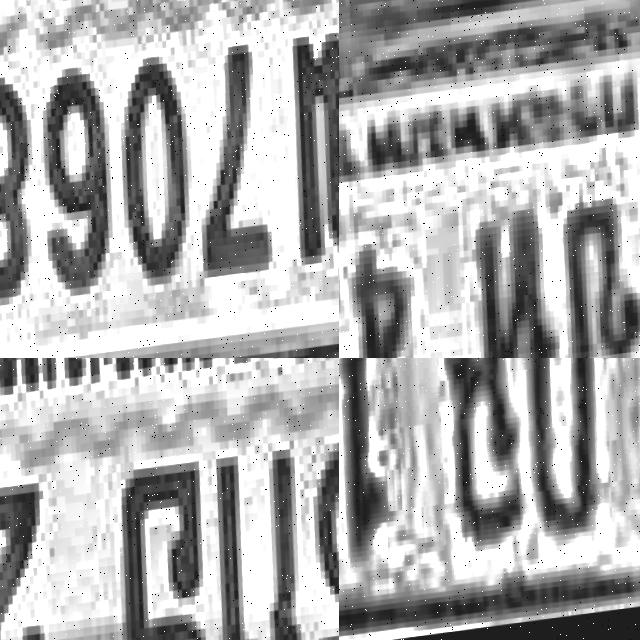license-plate: (0, 0, 339, 358), (339, 0, 640, 358), (0, 358, 339, 640), (339, 358, 640, 640)
